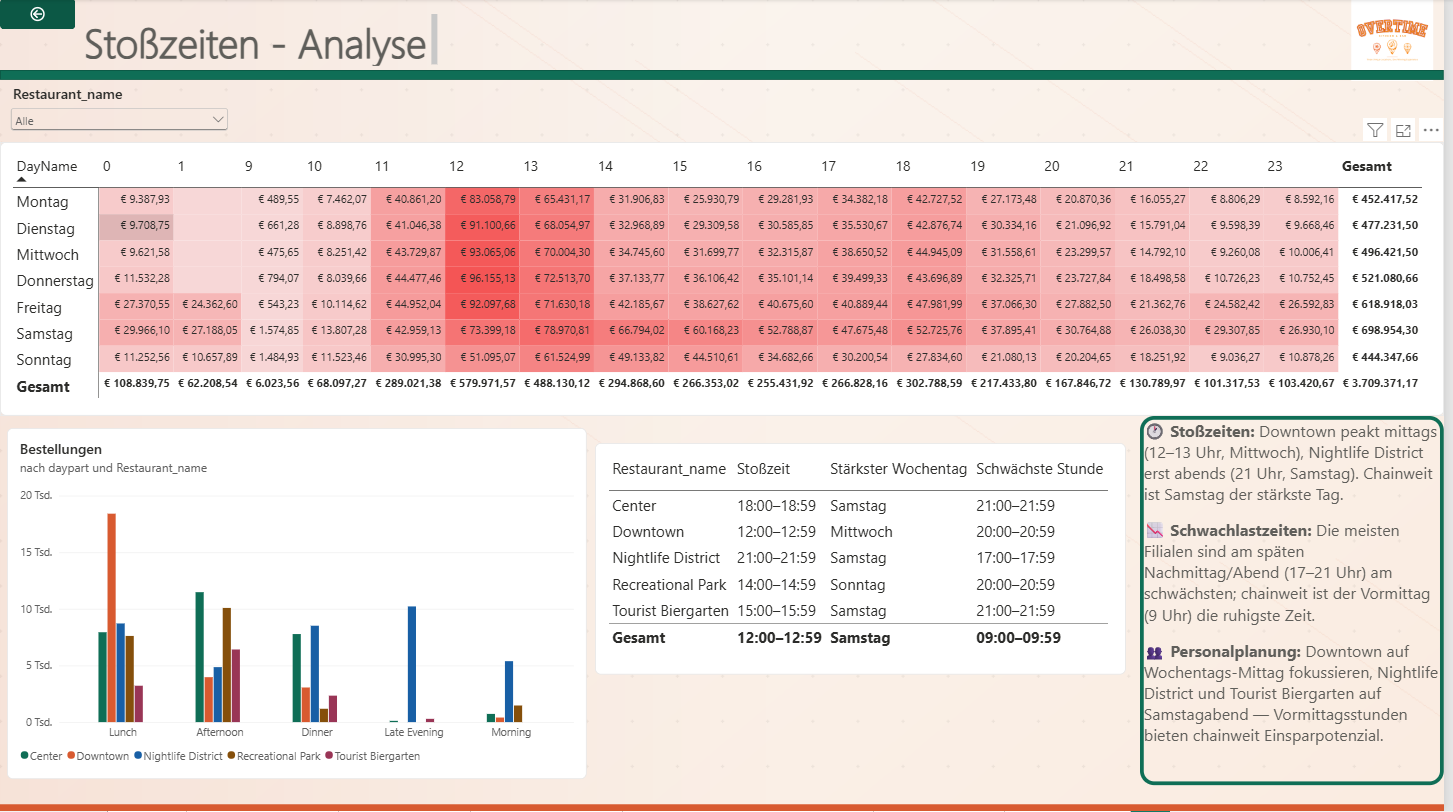

This screenshot's page, from the dashboard's own definition file:
{"tool":"powerbi","page":{"name":"Stoßzeiten - Analyse","canvas":[1920,1080],"ordinal":3},"visuals":[{"type":"image","box":[1781.7,0,138.3,109.1],"z":0},{"type":"pivotTable","fields":{"Columns":["dim_time.hour"],"Rows":["DimDate.DayName"],"Values":["DAX Formula.Net Sales"]},"box":[0,190.2,1920.6,364.4],"z":1000},{"type":"textbox","box":[111.7,20,469.5,69.2],"z":2000},{"type":"shape","box":[0,94.4,1920,13.3],"z":3000},{"type":"actionButton","box":[0,0,100,40],"z":4000},{"type":"slicer","fields":{"Values":["dim_restaurants.Restaurant_name"]},"box":[9.3,113.1,299.3,77.1],"z":5000},{"type":"clusteredColumnChart","fields":{"Category":["dim_time.daypart"],"Series":["dim_restaurants.Restaurant_name"],"Y":["DAX Formula.Orders"]},"box":[9.3,570.6,771.4,466.8],"z":6000},{"type":"tableEx","fields":{"Values":["dim_restaurants.Restaurant_name","DAX Formula.Peak Hour","DAX Formula.Strongest Weekday","DAX Formula.Weakest Hour"]},"box":[791.3,589.9,706.2,307.7],"z":7000},{"type":"textbox","box":[1515.9,554.4,404.1,490.6],"z":8000}]}

Visuals, with their boxes on the page's 1920x1080 design canvas (x1, y1, x2, y2). These are canvas units, not pixel positions in the 1453x812 screenshot, which may show the page scaled, cropped or inside an application window:
image: bbox=(1782, 0, 1920, 109)
pivotTable - dim_time.hour x DimDate.DayName: bbox=(0, 190, 1921, 555)
textbox: bbox=(112, 20, 581, 89)
shape: bbox=(0, 94, 1920, 108)
actionButton: bbox=(0, 0, 100, 40)
slicer - dim_restaurants.Restaurant_name: bbox=(9, 113, 309, 190)
clusteredColumnChart - dim_time.daypart x dim_restaurants.Restaurant_name: bbox=(9, 571, 781, 1037)
tableEx - dim_restaurants.Restaurant_name x DAX Formula.Peak Hour: bbox=(791, 590, 1498, 898)
textbox: bbox=(1516, 554, 1920, 1045)
